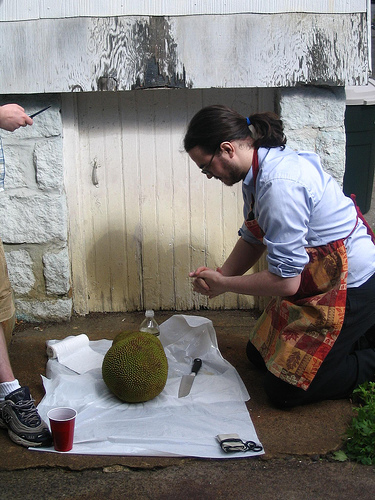jackfruit: (103, 332, 170, 403)
